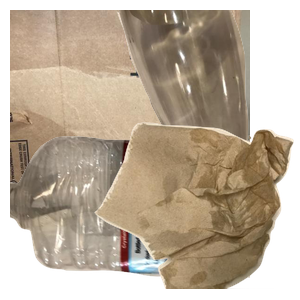cardboard: (10, 10, 250, 190)
glass: (115, 10, 300, 190)
plastic: (10, 134, 250, 300)
trash: (92, 120, 300, 300)
